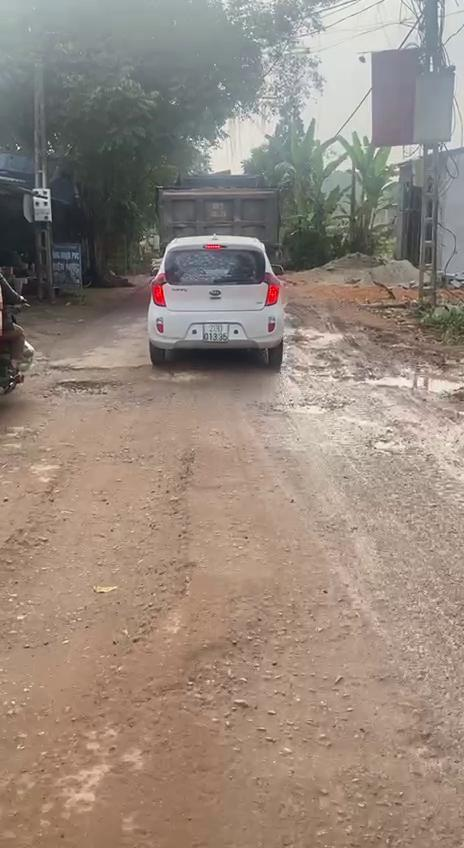pothole: (0, 452, 200, 636), (54, 377, 136, 403), (368, 431, 424, 456), (273, 400, 344, 416)
